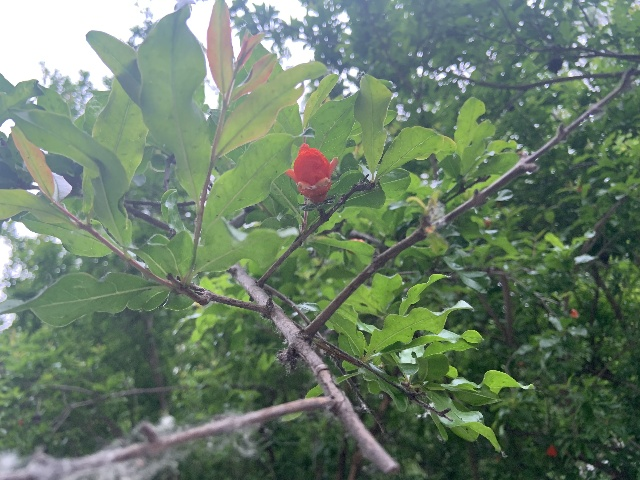flower: (284, 142, 338, 203)
